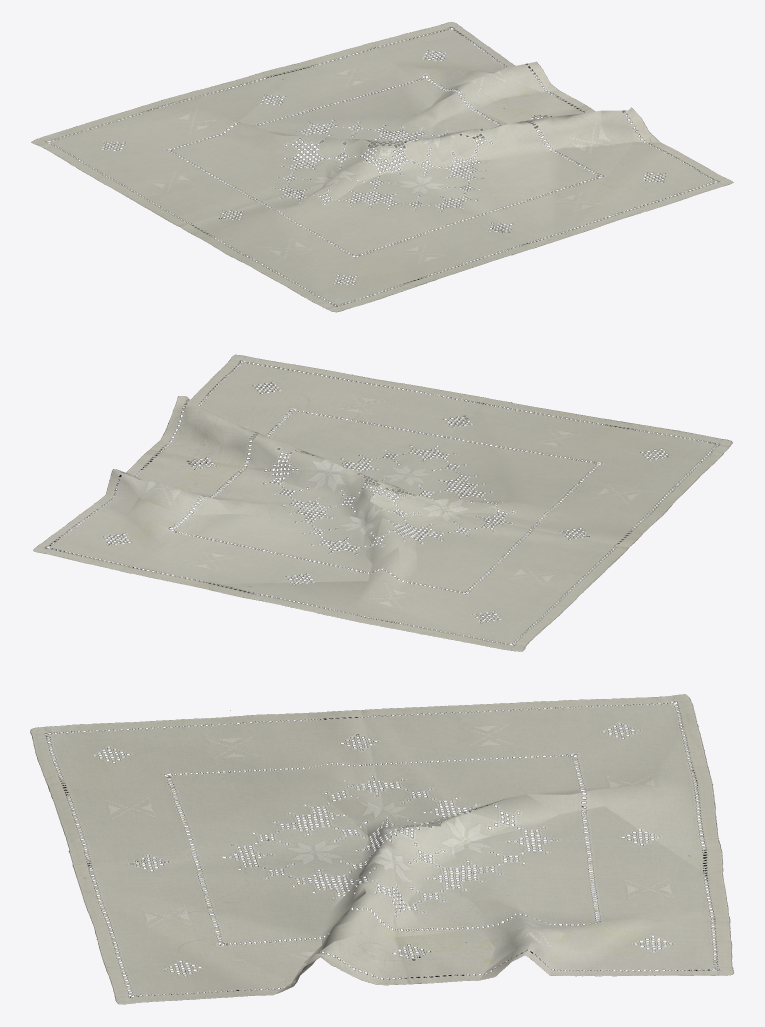
The model's file is fabric_lace3.fbx.
The picture shows the model from 3 angles, top to bottom: view 1: azimuth 30°, elevation 25°; view 2: azimuth 150°, elevation 25°; view 3: azimuth 270°, elevation 25°; orthographic projection. The views are drawn at different scales.
Parts seen in each view (by area): view 1: fabric_lace1; view 2: fabric_lace1; view 3: fabric_lace1.
Part boxes in pixels (<box>): fabric_lace1: <box>31,22,733,312</box>; fabric_lace1: <box>33,354,732,651</box>; fabric_lace1: <box>30,694,733,1004</box>.
Size of the model in its own units: 29.53 by 1.41 by 28.36.
Materials: 1 (1 with a texture image).
